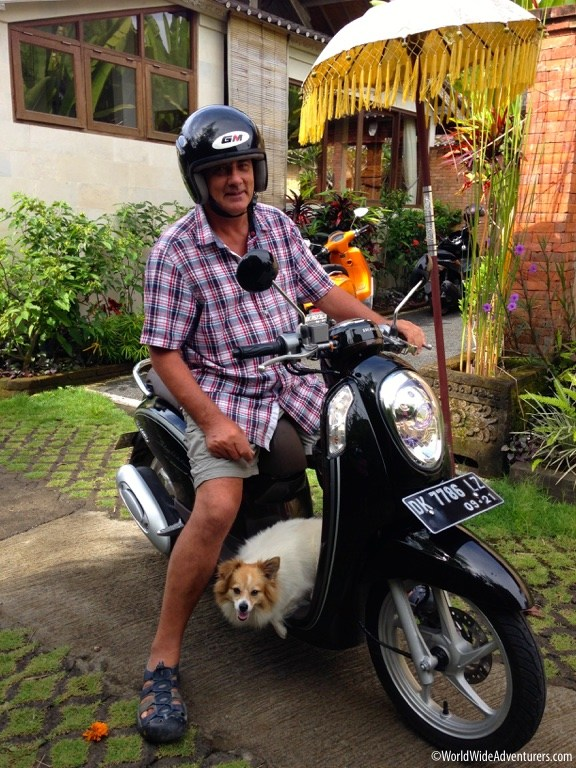helmet: (114, 98, 506, 668)
